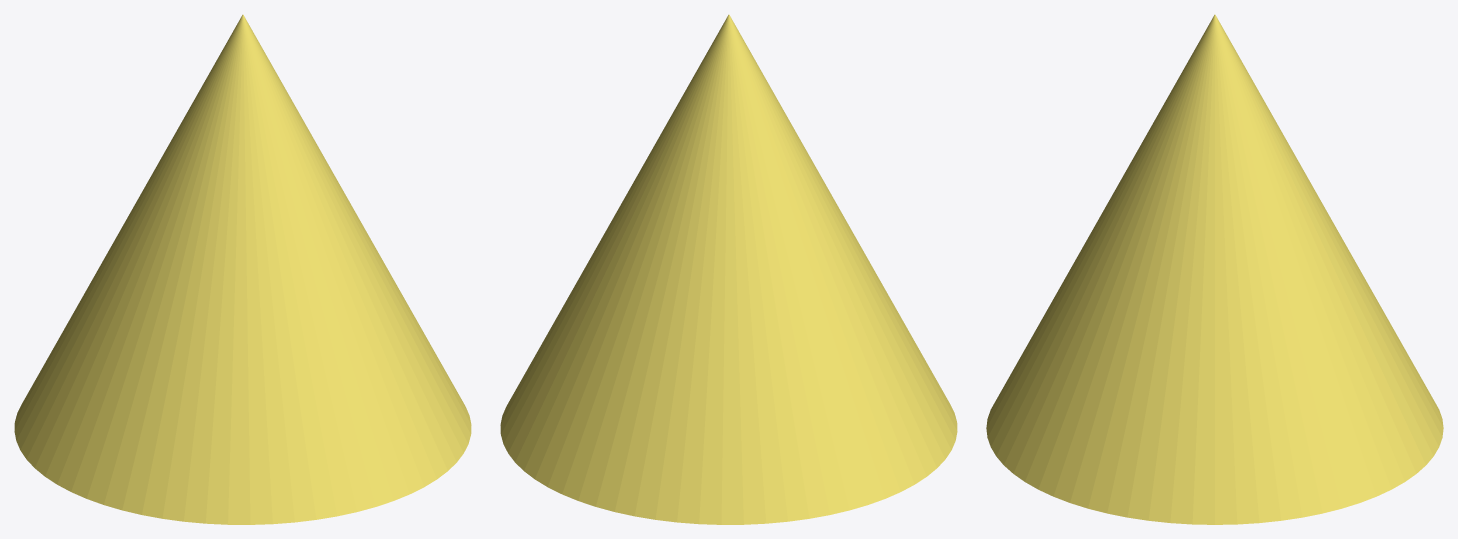
3 renders of one model, left to right at view 1: azimuth 30°, elevation 25°; view 2: azimuth 150°, elevation 25°; view 3: azimuth 270°, elevation 25°, orthographic.
Size of the model in its own units: 24 by 24 by 24.
